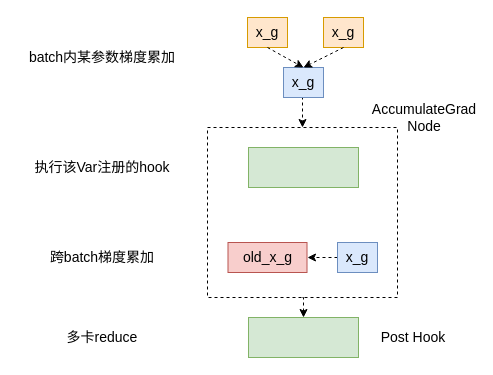
This 493x375 diagram has some shape labels left out. Each missing label, with the box of its shape:
call hooks: (248, 146, 358, 188)
reduce hook: (248, 316, 358, 358)
